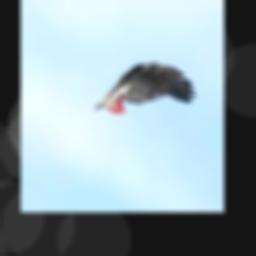Woodpecker: (95, 64, 198, 114)
